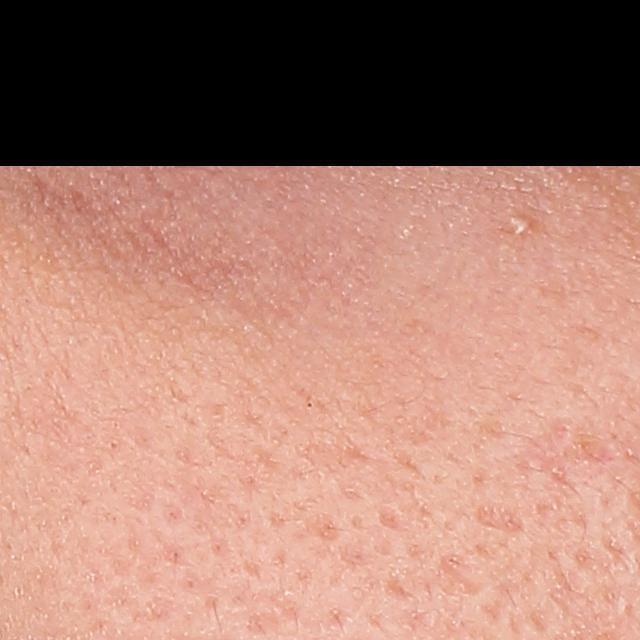atrophic_scar: (512, 414, 615, 491), (471, 502, 531, 535)
comedo: (502, 208, 541, 241)
